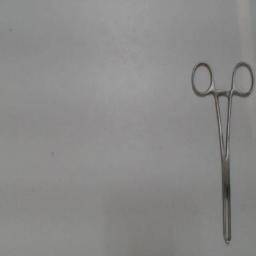Allis Tissue Forceps: (188, 59, 256, 249)
